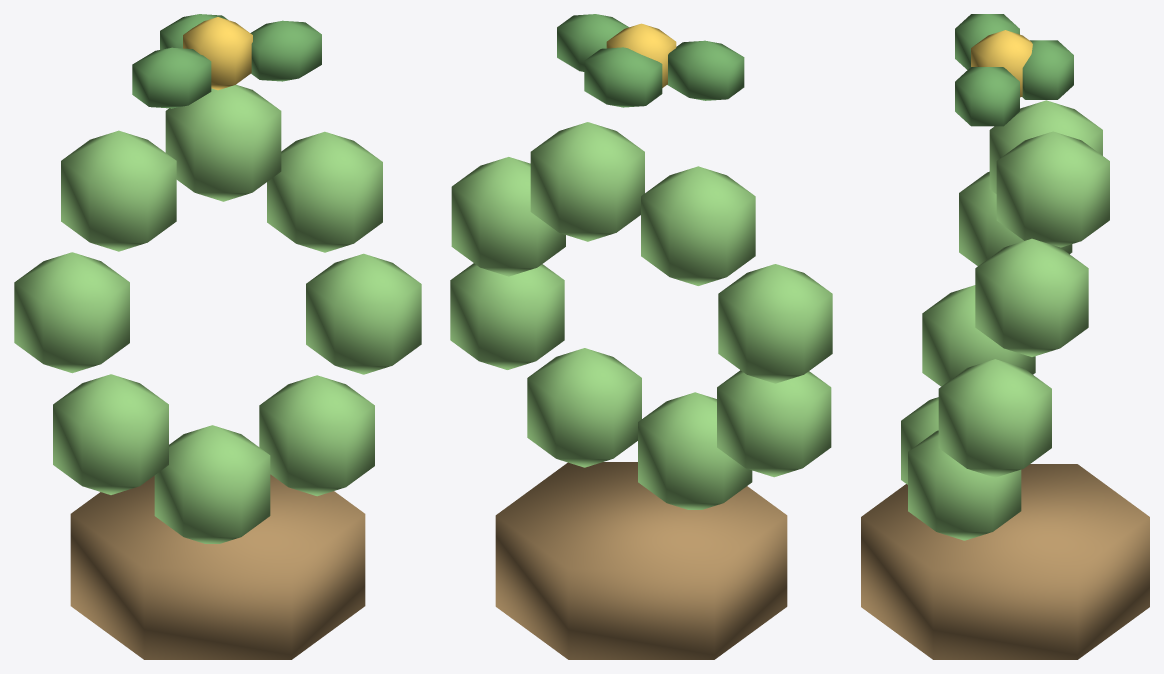
The model's file is hollow_vine_young.fbx.
3 views of the same model, side by side, from view 1: azimuth 30°, elevation 25°; view 2: azimuth 150°, elevation 25°; view 3: azimuth 270°, elevation 25° (orthographic). The views are drawn at different scales.
Visible parts, largest first — view 1: PLQ_hollow_vine_young; view 2: PLQ_hollow_vine_young; view 3: PLQ_hollow_vine_young.
Boxes of the visible parts, <box> form: PLQ_hollow_vine_young: <box>14,14,421,659</box>; PLQ_hollow_vine_young: <box>450,14,832,659</box>; PLQ_hollow_vine_young: <box>861,14,1149,659</box>.
Size of the model in its own units: 26.16 by 40.77 by 18.16.
